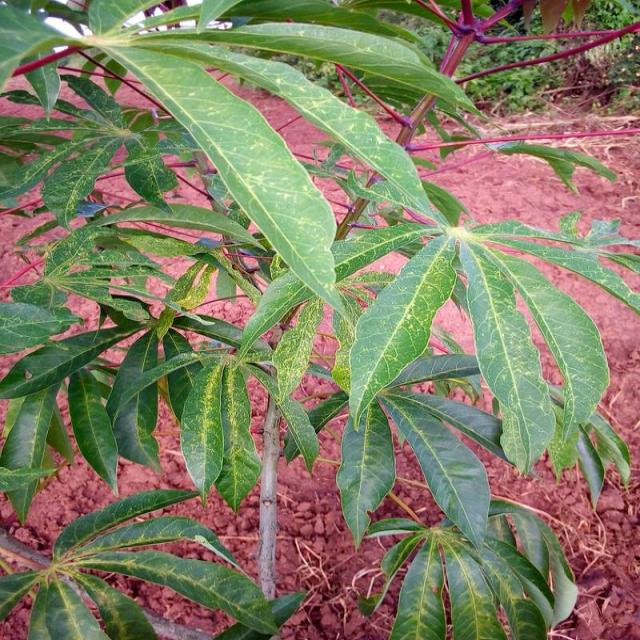cassava leaf: (2, 1, 638, 637), (89, 24, 342, 310), (459, 234, 558, 476), (348, 231, 458, 430)
